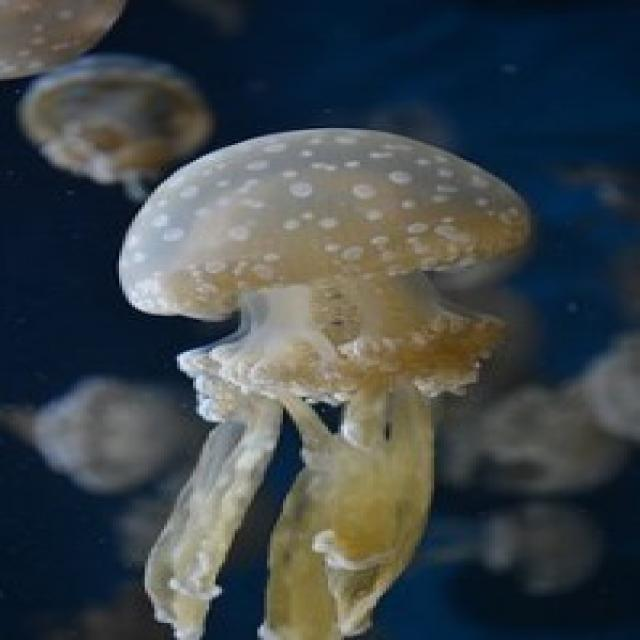Jellyfish: (106, 126, 515, 617), (16, 58, 218, 169)
